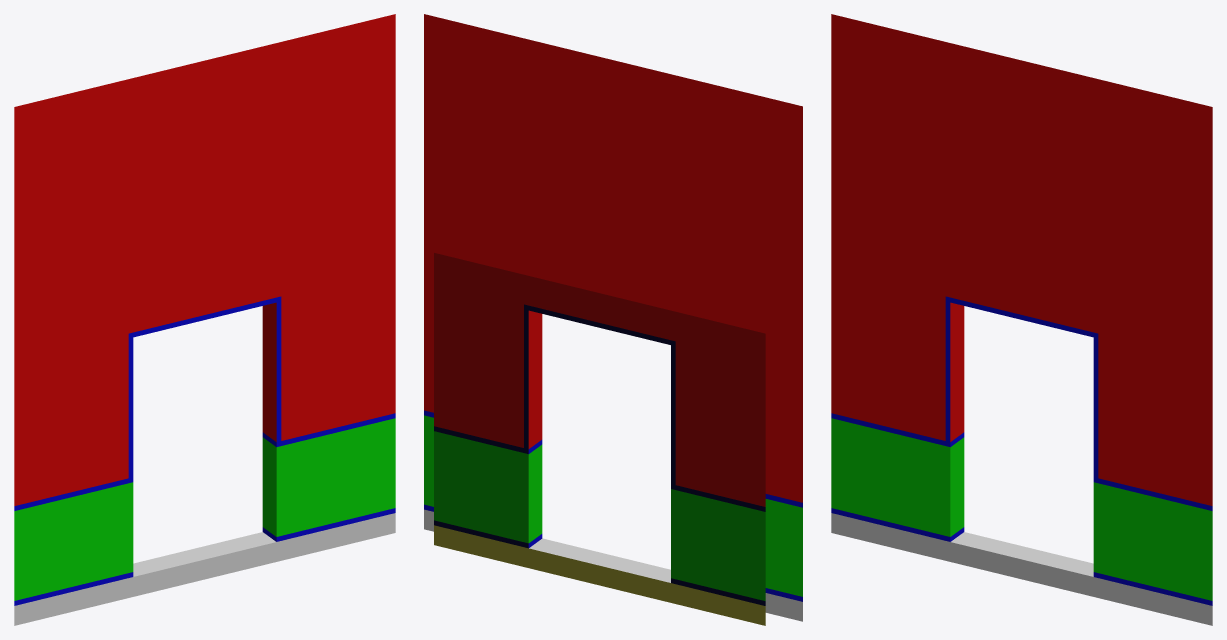
File: SM_Room4xXDoorA.fbx
3 renders of one model, left to right at view 1: azimuth 30°, elevation 25°; view 2: azimuth 150°, elevation 25°; view 3: azimuth 330°, elevation 25°, orthographic.
Parts seen in each view (by area): view 1: SM_Room4xXDoorA; view 2: SM_Room4xXDoorA; view 3: SM_Room4xXDoorA.
Boxes of the visible parts, left/top/right/bottom form: SM_Room4xXDoorA: left=14, top=14, right=395, bottom=625; SM_Room4xXDoorA: left=424, top=14, right=802, bottom=625; SM_Room4xXDoorA: left=831, top=14, right=1212, bottom=625.
Size of the model in its own units: 400 by 520 by 25.
